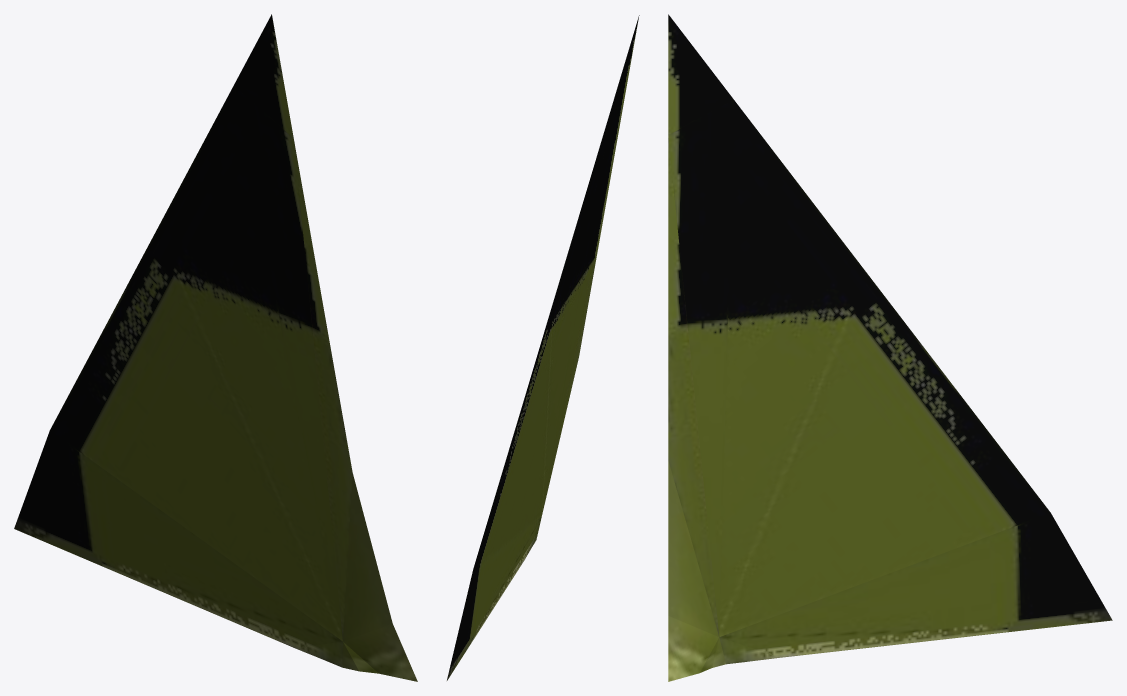
3 renders of one model, left to right at view 1: azimuth 30°, elevation 25°; view 2: azimuth 150°, elevation 25°; view 3: azimuth 270°, elevation 25°, orthographic. The views are drawn at different scales.
Size of the model in its own units: 1.24 by 5.72 by 3.8.
1 material, 1 textured.
